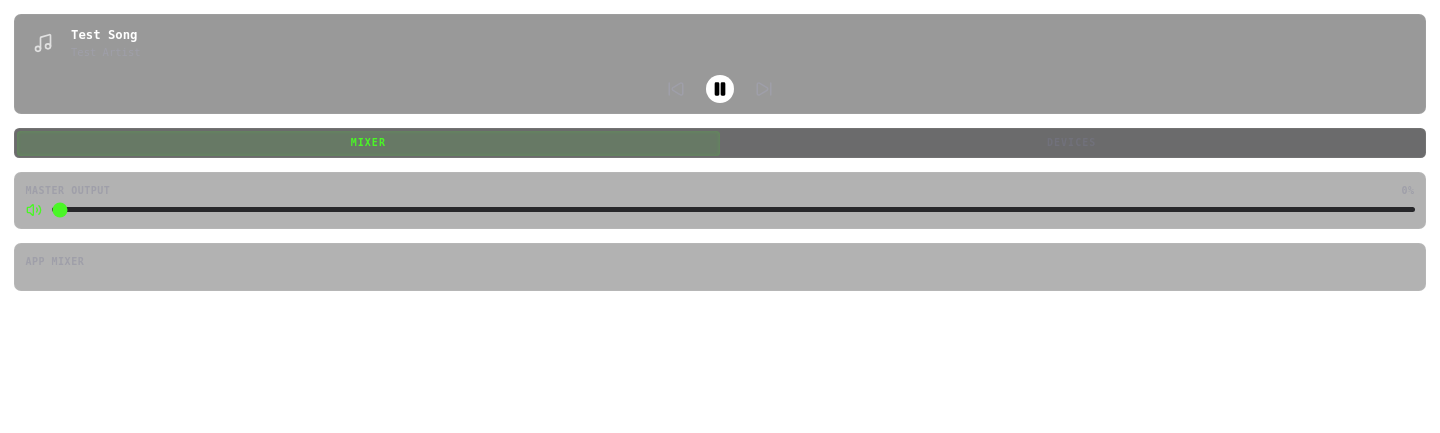
Cross-Platform Widget Tests › AudioHubWidget › should switch to Devices tab when clicked
Click the button "Devices" at (1072, 143), box 720,131 -> 1423,156
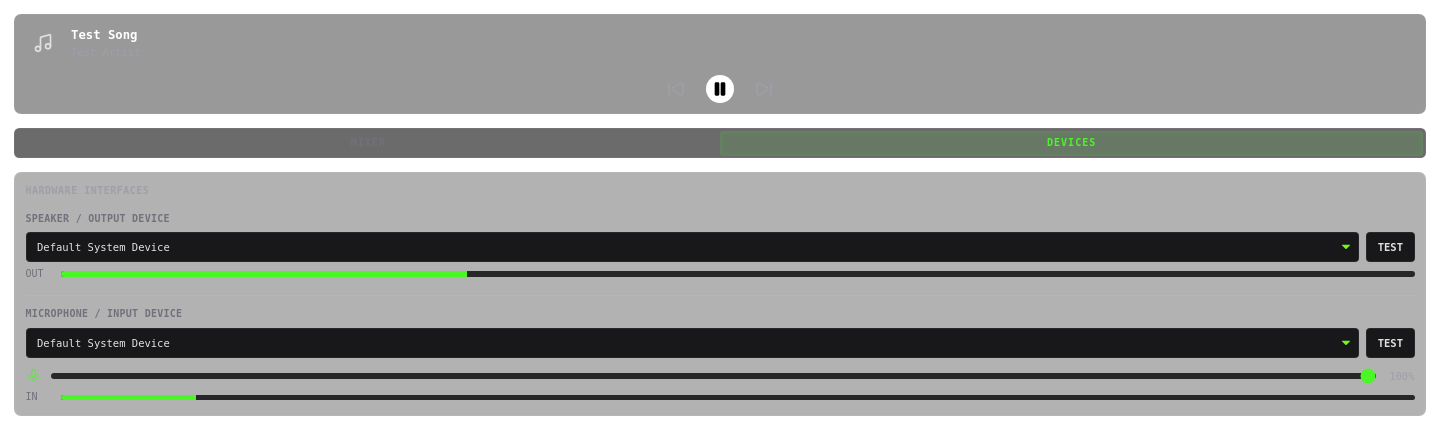
Check: the text "Speaker / Output Device" is shown, box 26,213 -> 170,224
Check: the text "Microphone / Input Device" is shown, box 26,308 -> 182,319
